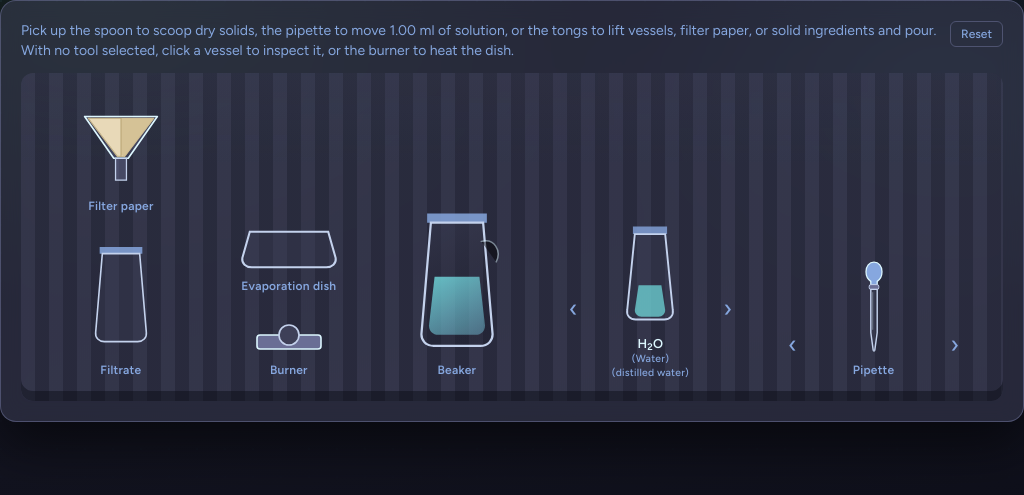
LabBench load / carousel / layout › returns the ingredient carousel to distilled water after Reset
The image size is (1024, 495).
Expected: the button with aria-label "Distilled water (H2O)" is shown, [607,212,694,385]
Click the button named "Next ingredient". click: (728, 309)
box: [715,287,740,331]
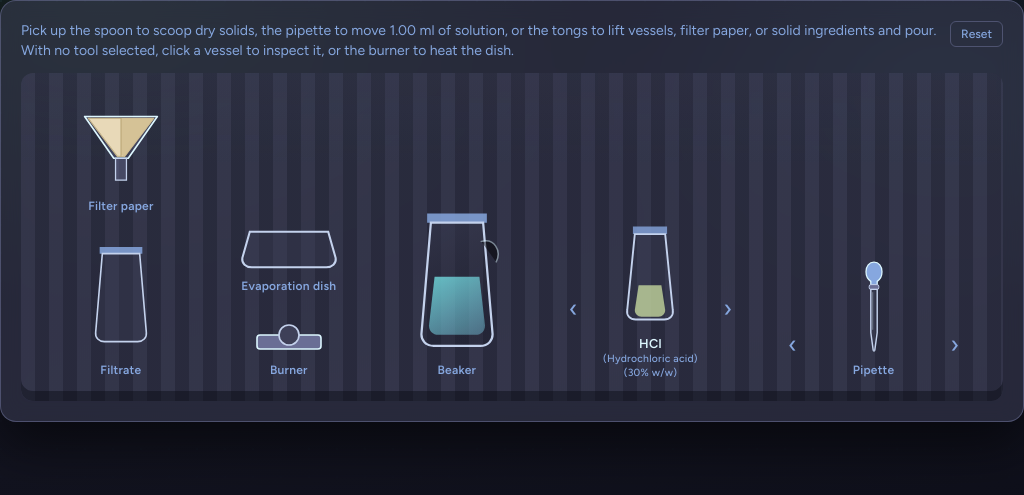
Expected: the button with aria-label "Hydrochloric acid (30%)" is shown, [600,212,701,385]
Click the button with aria-label "Reset lab". click: (977, 34)
box: [950,21,1003,47]
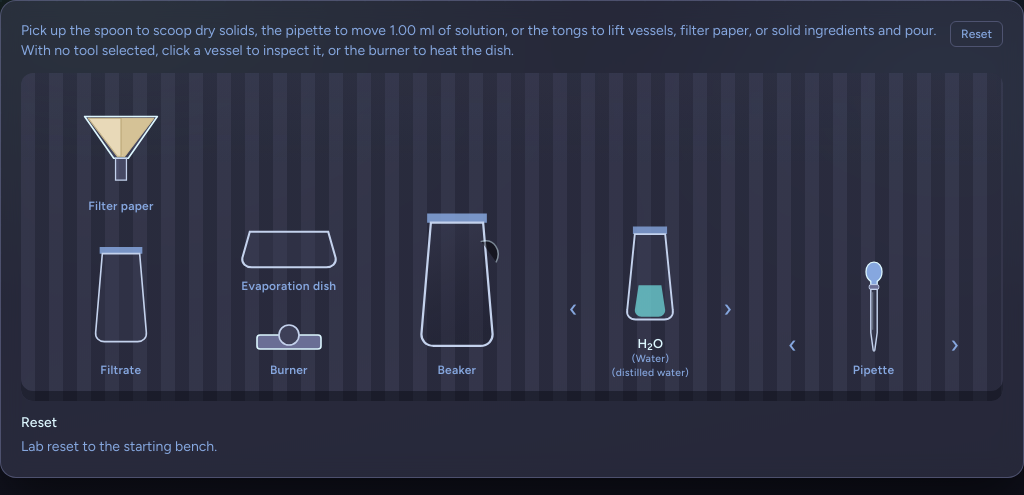
Expected: the button with aria-label "Distilled water (H2O)" is shown, [607,212,694,385]
